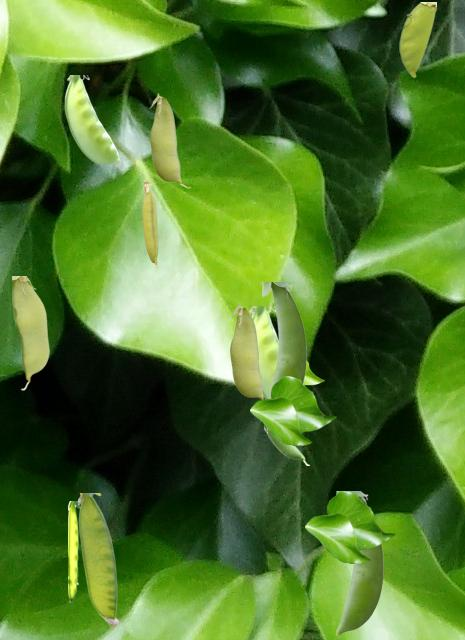pea: (336, 491, 382, 636), (78, 493, 118, 625), (64, 75, 119, 169), (262, 282, 305, 397), (12, 276, 48, 389), (149, 93, 190, 187), (229, 303, 264, 398), (399, 2, 435, 76), (249, 306, 277, 398), (264, 426, 308, 464), (142, 179, 157, 266), (68, 501, 79, 601)
